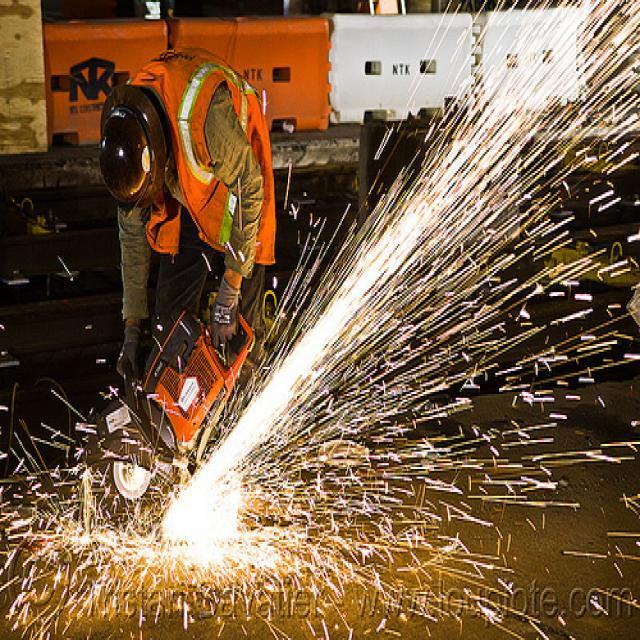Reflective-Jacket: (146, 46, 275, 267)
